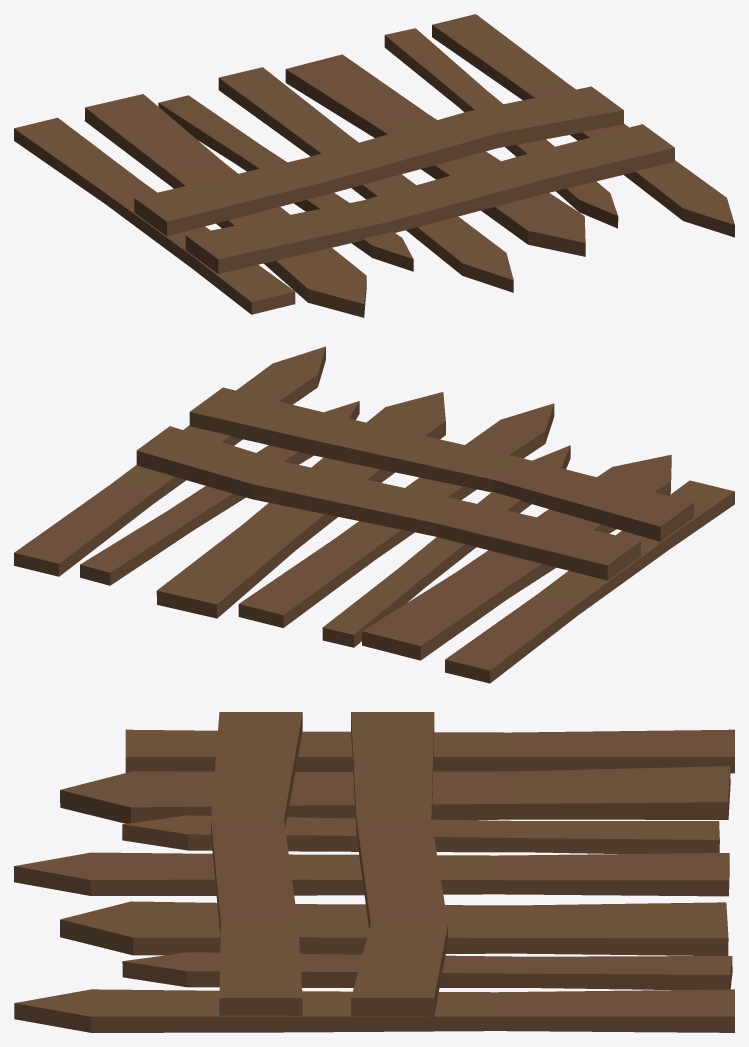
File: Barrier_01_Left_Destroy.fbx
3 renders of one model, top to bottom at view 1: azimuth 30°, elevation 25°; view 2: azimuth 150°, elevation 25°; view 3: azimuth 270°, elevation 25°, orthographic. The views are drawn at different scales.
Visible parts, largest first — view 1: barriere_1.bord gauche destroy; view 2: barriere_1.bord gauche destroy; view 3: barriere_1.bord gauche destroy.
Part boxes in pixels (box(x1,y1,x2,y2)): barriere_1.bord gauche destroy: box(14, 14, 734, 317); barriere_1.bord gauche destroy: box(14, 346, 734, 683); barriere_1.bord gauche destroy: box(14, 712, 734, 1032).
Bounding box in the file's own units: 100 × 6.97 × 105.
